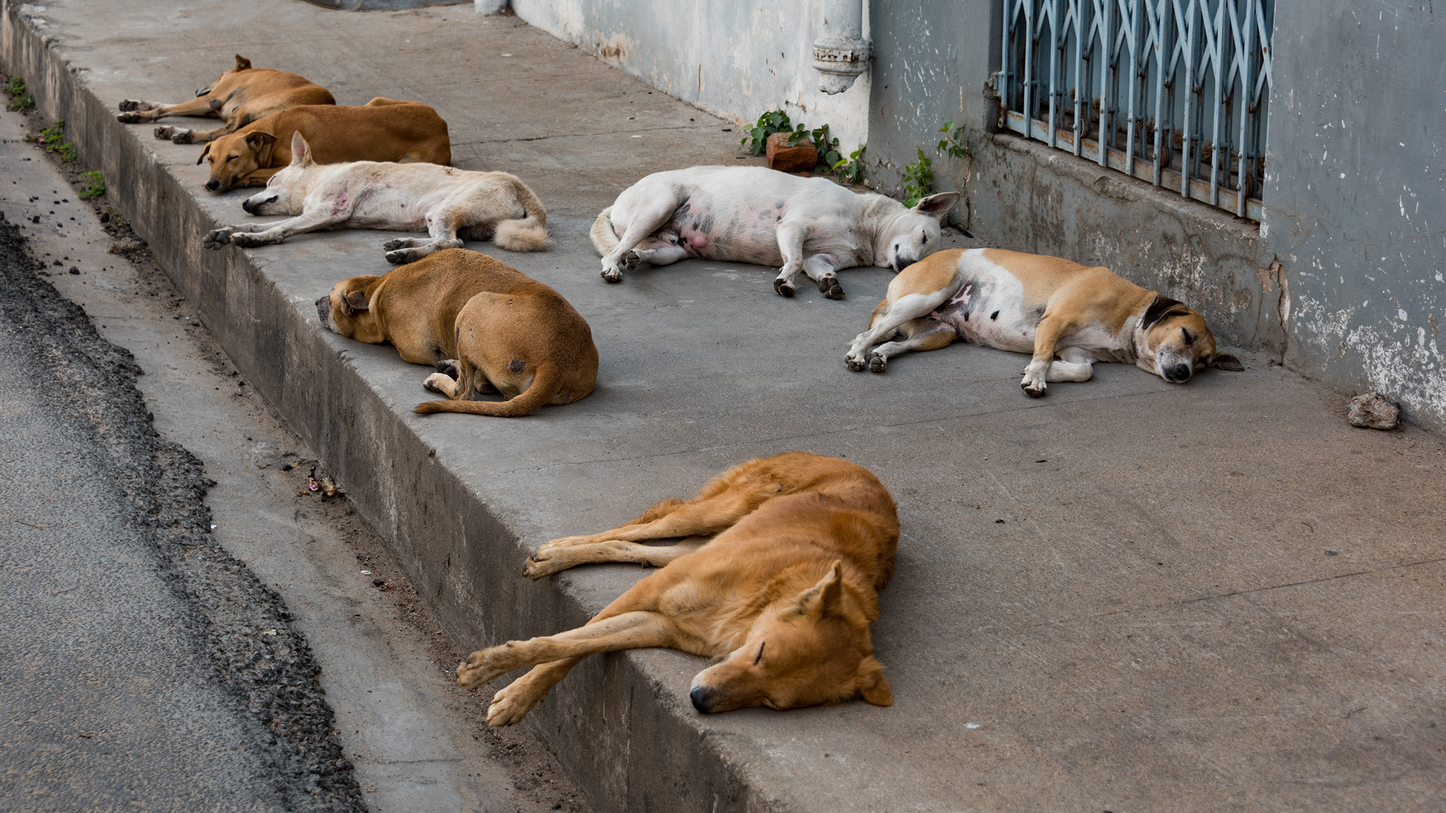Dog: (451, 450, 915, 730), (855, 225, 1232, 427), (575, 140, 971, 310), (291, 254, 632, 447), (205, 140, 575, 272), (180, 91, 489, 179), (113, 59, 345, 144)
